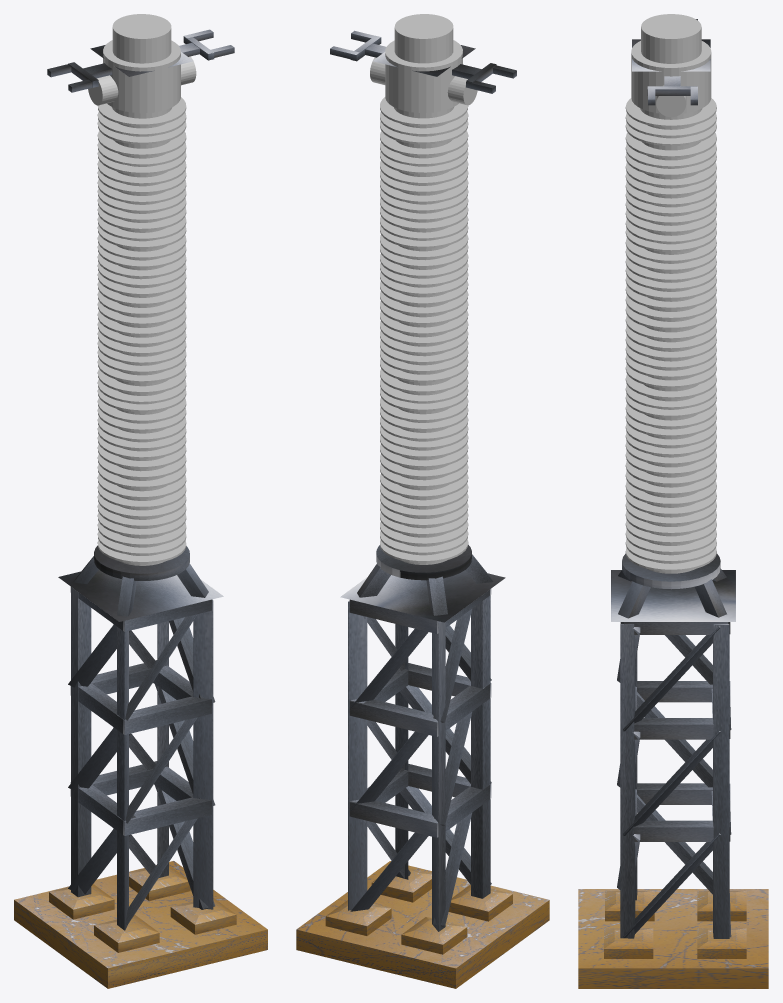
Rendered from torre1.fbx.
3 renders of one model, left to right at view 1: azimuth 30°, elevation 25°; view 2: azimuth 150°, elevation 25°; view 3: azimuth 270°, elevation 25°, orthographic.
Parts seen in each view (by area): view 1: Cylinder.001; view 2: Cylinder.001; view 3: Cylinder.001.
Boxes of the visible parts, x1,y1,x2,y2 form: Cylinder.001: (14, 14, 267, 988); Cylinder.001: (296, 14, 549, 988); Cylinder.001: (578, 14, 768, 988).
Bounding box in the file's own units: 131 × 700 × 131.
